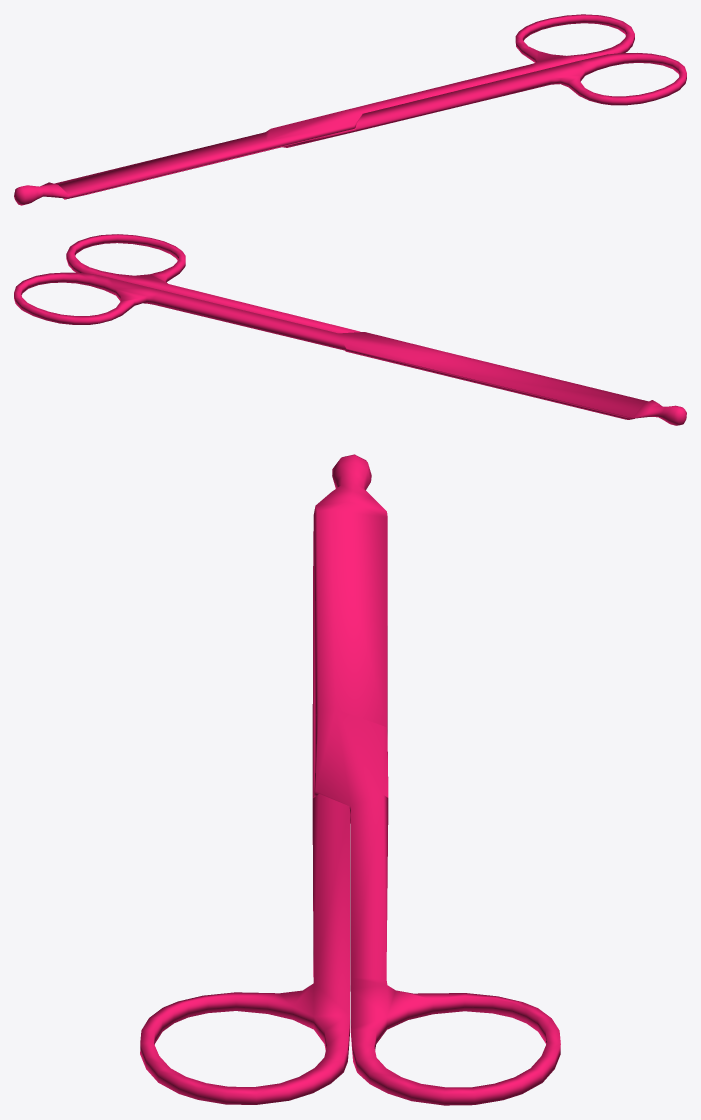
Rendered from SM_Morgue_Scissors_4.FBX.
3 renders of one model, top to bottom at view 1: azimuth 30°, elevation 25°; view 2: azimuth 150°, elevation 25°; view 3: azimuth 270°, elevation 25°, orthographic. The views are drawn at different scales.
Visible parts, largest first — view 1: Morgue_Scissors_4_element_1, Morgue_Scissors_4_element_2; view 2: Morgue_Scissors_4_element_1, Morgue_Scissors_4_element_2; view 3: Morgue_Scissors_4_element_1, Morgue_Scissors_4_element_2.
Boxes of the visible parts, x1=… form: Morgue_Scissors_4_element_1: x1=14, y1=14, x2=634, y2=205; Morgue_Scissors_4_element_2: x1=63, y1=53, x2=686, y2=199; Morgue_Scissors_4_element_1: x1=14, y1=272, x2=686, y2=425; Morgue_Scissors_4_element_2: x1=66, y1=234, x2=634, y2=419; Morgue_Scissors_4_element_1: x1=313, y1=454, x2=560, y2=1105; Morgue_Scissors_4_element_2: x1=140, y1=531, x2=350, y2=1104.
Bounding box in the file's own units: 22.1 × 0.5969 × 6.3.
